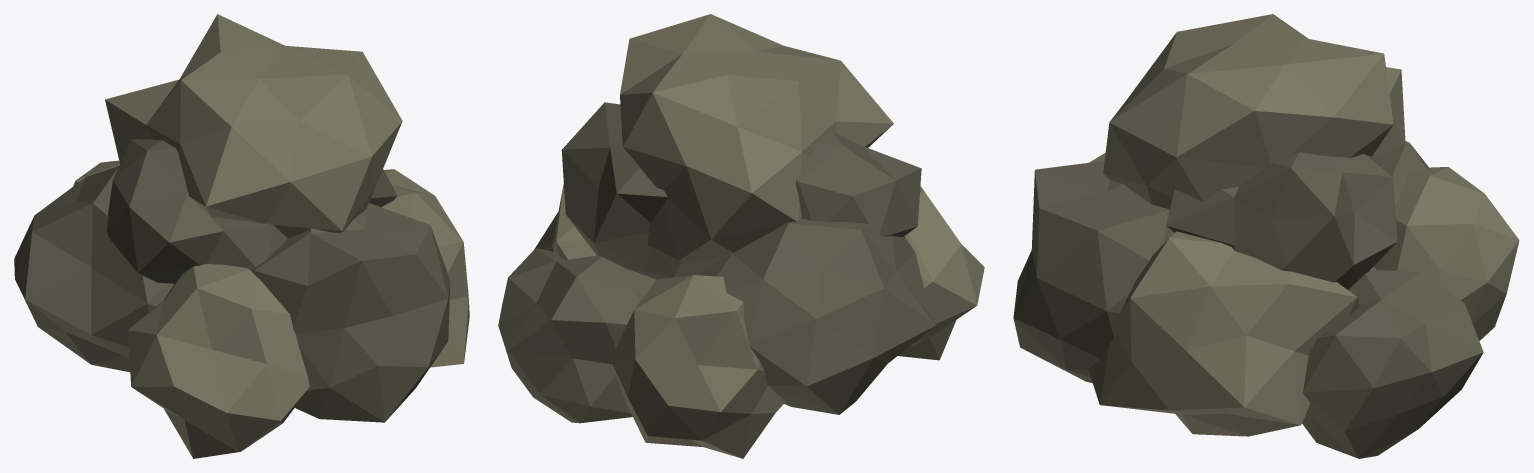
The model's file is bush-round-ash.glb.
The picture shows the model from 3 angles, left to right: view 1: azimuth 30°, elevation 25°; view 2: azimuth 150°, elevation 25°; view 3: azimuth 270°, elevation 25°; orthographic projection. The views are drawn at different scales.
Visible parts, largest first — view 1: Body_Leaves, Body_Leaves2; view 2: Body_Leaves, Body_Leaves2; view 3: Body_Leaves, Body_Leaves2.
Part boxes in pixels (x1,y1,x2,y2): Body_Leaves: (73, 14, 469, 458); Body_Leaves2: (14, 139, 450, 422); Body_Leaves: (535, 14, 984, 458); Body_Leaves2: (498, 102, 935, 423); Body_Leaves: (1088, 14, 1519, 436); Body_Leaves2: (1013, 141, 1483, 458).
Bounding box in the file's own units: 1.4 × 1.1 × 1.4.
